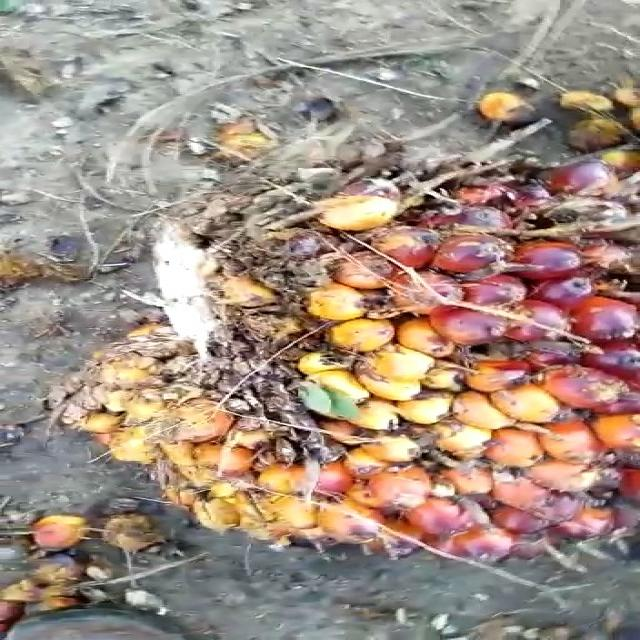palm oil: (59, 75, 640, 575)
